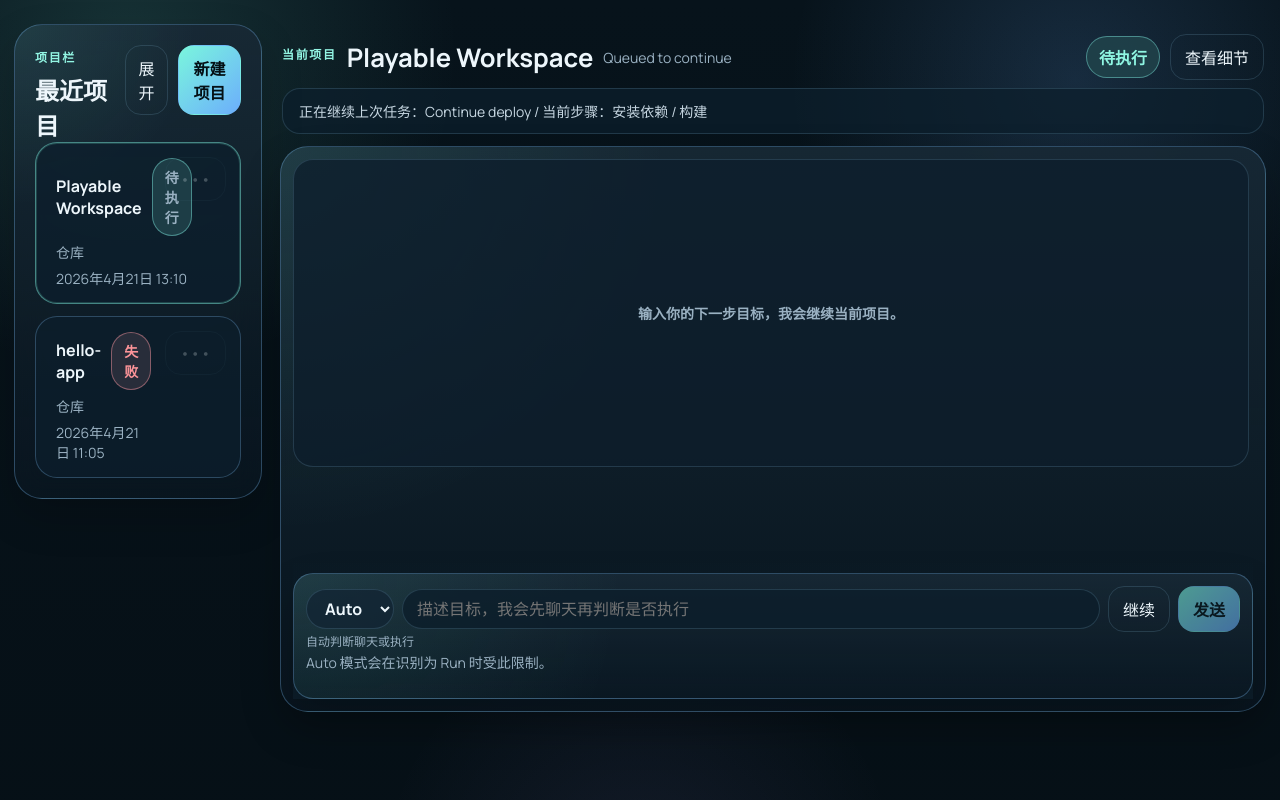
Scenario: OperatorV4Page › keeps the details drawer hidden by default
expect the text "run_state" is not shown: met
expect the text "active_task_id" is not shown: met
Click the button with test id "operator-v4-details-toggle" at (1217, 57), box [1170,34,1264,80]
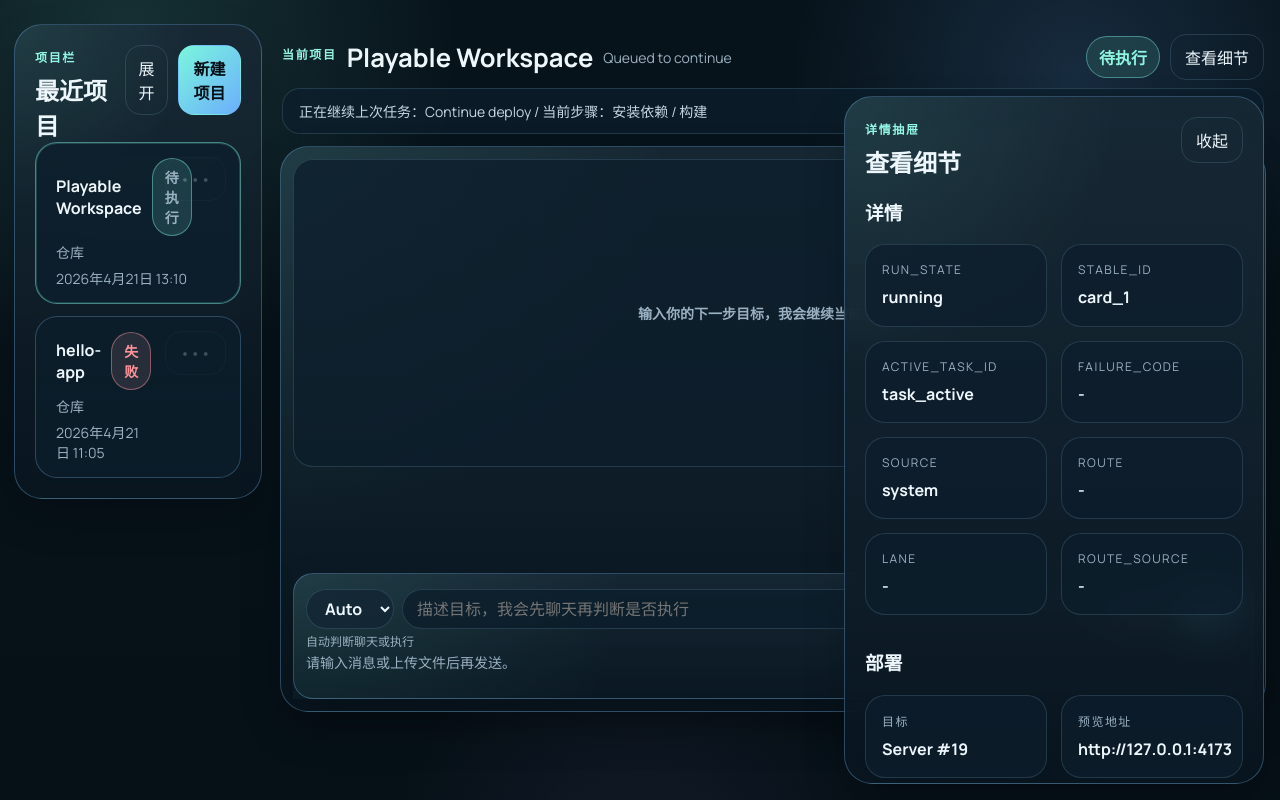
expect the dialog with test id "operator-v4-details-drawer" is shown: met, box [844,96,1264,784]
